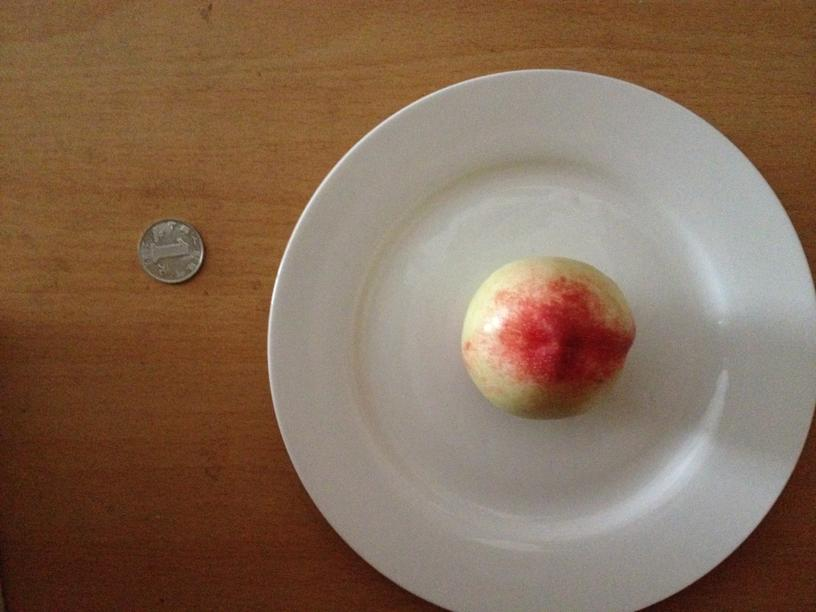coin: (132, 216, 206, 283)
peach: (461, 255, 632, 420)
